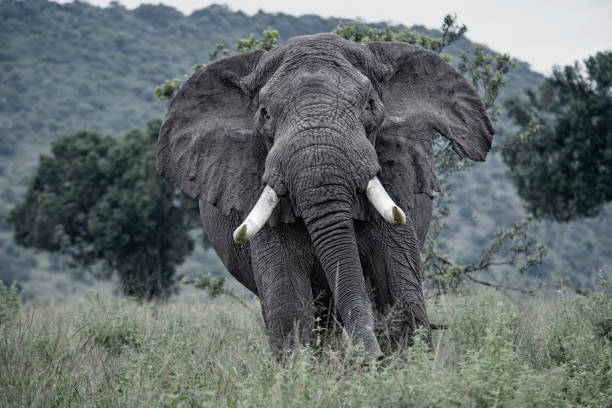africanelephant: (213, 48, 414, 275)
